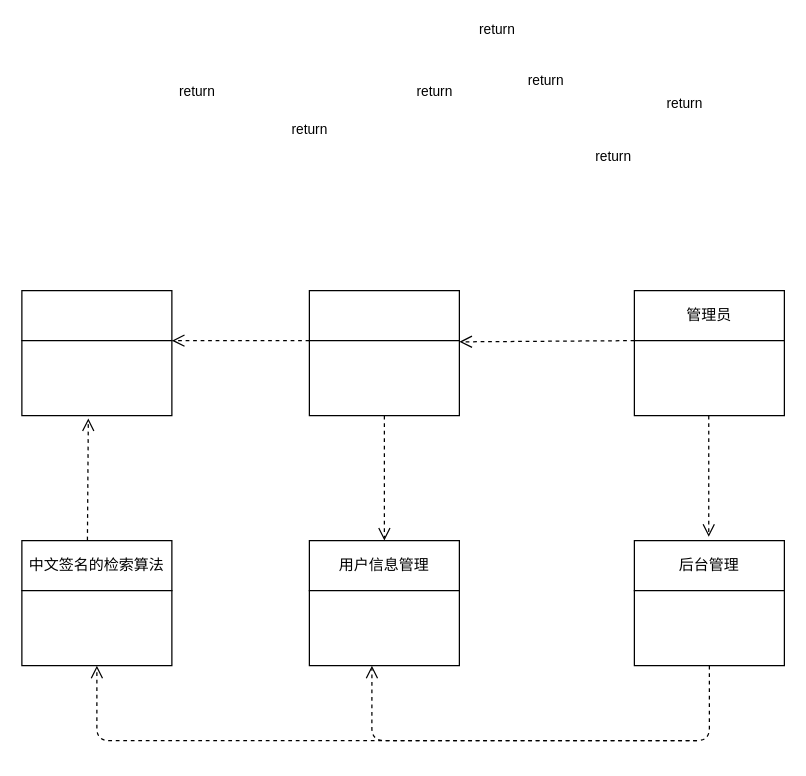
This 806x776 diagram has some shape labels left out. Each missing label, with the centre of its shape:
"手写中文签名的检索系统" belongs at pixel 96 315.
"用户" belongs at pixel 383 315.
